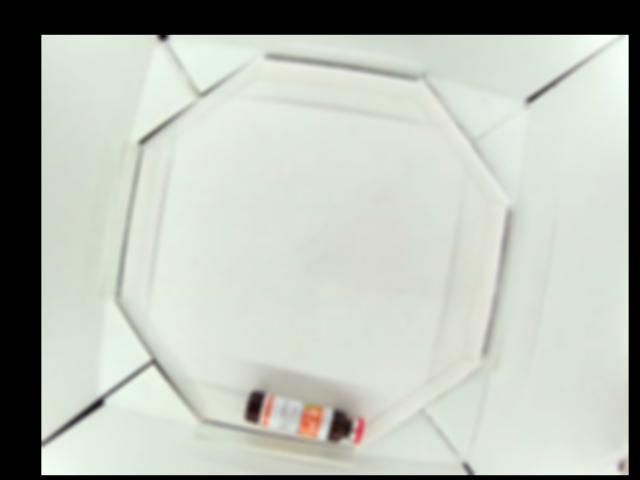Medicine: (242, 390, 363, 444)
